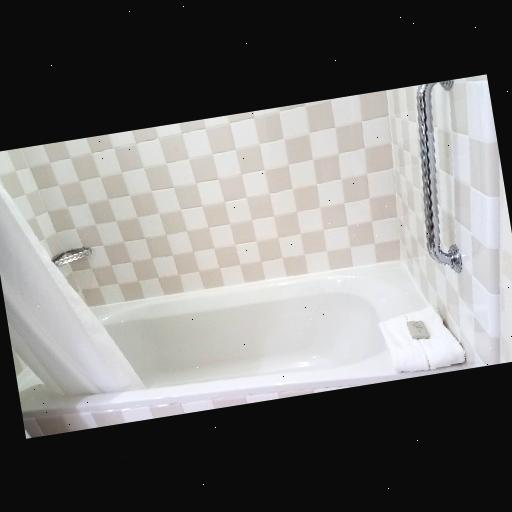clean_bathtub: (18, 254, 475, 443)
folded_towel: (370, 298, 468, 384)
